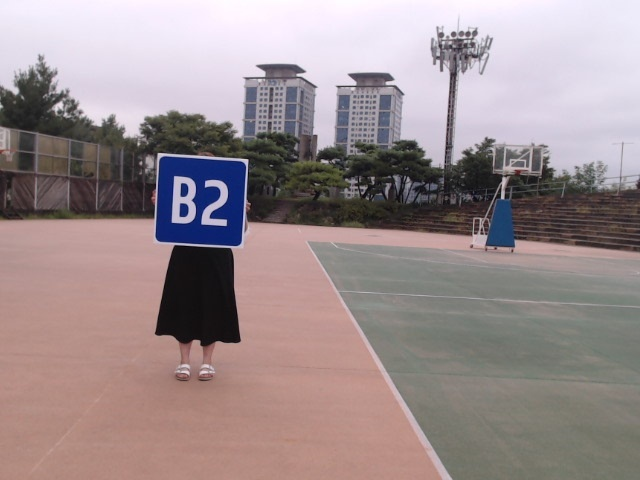delivery_b2: (154, 154, 247, 248)
